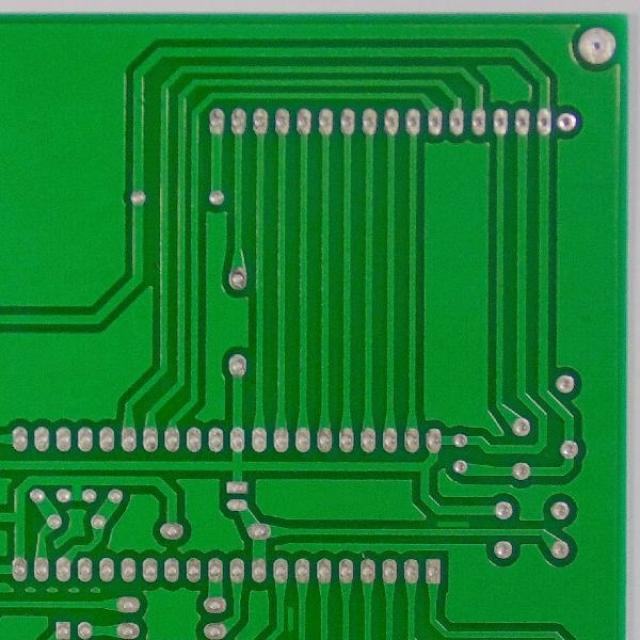Spurious_Cooper: (434, 517, 474, 530), (286, 602, 295, 634)
